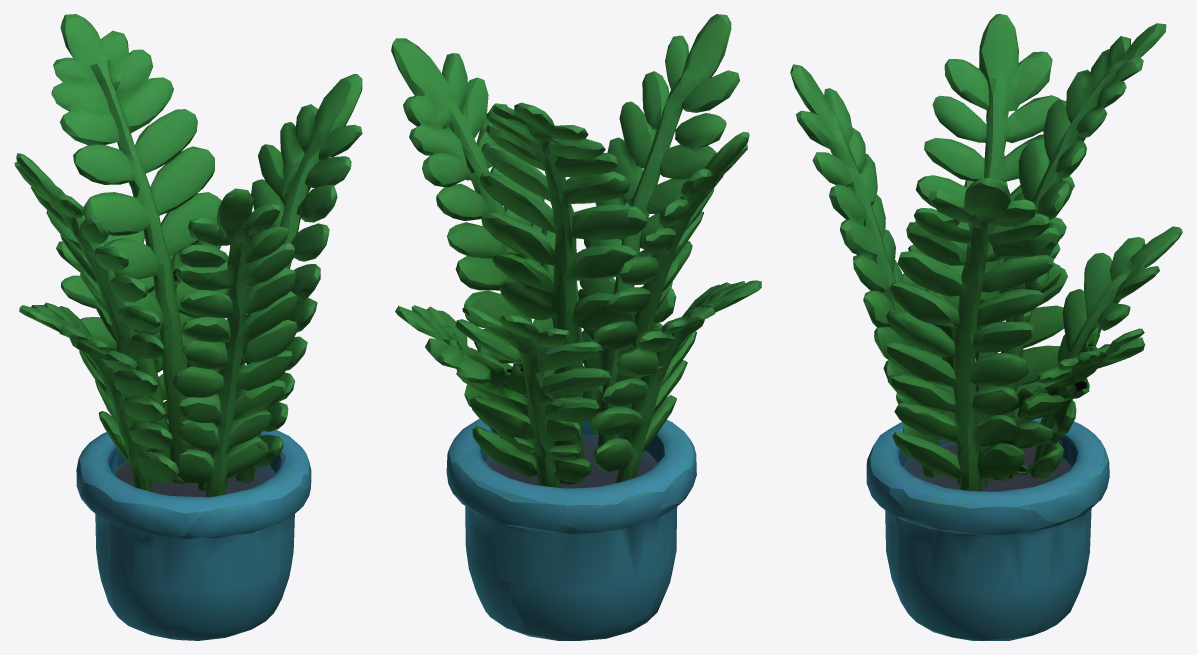
The model's file is x-plant2.glb.
3 renders of one model, left to right at view 1: azimuth 30°, elevation 25°; view 2: azimuth 150°, elevation 25°; view 3: azimuth 270°, elevation 25°, orthographic. The views are drawn at different scales.
Parts seen in each view (by area): view 1: geometry_0; view 2: geometry_0; view 3: geometry_0.
Part boxes in pixels (<box>): geometry_0: <box>14,14,362,640</box>; geometry_0: <box>391,14,761,640</box>; geometry_0: <box>790,14,1182,640</box>.
Size of the model in its own units: 0.2312 by 0.35 by 0.2212.
1 material, 1 textured.
